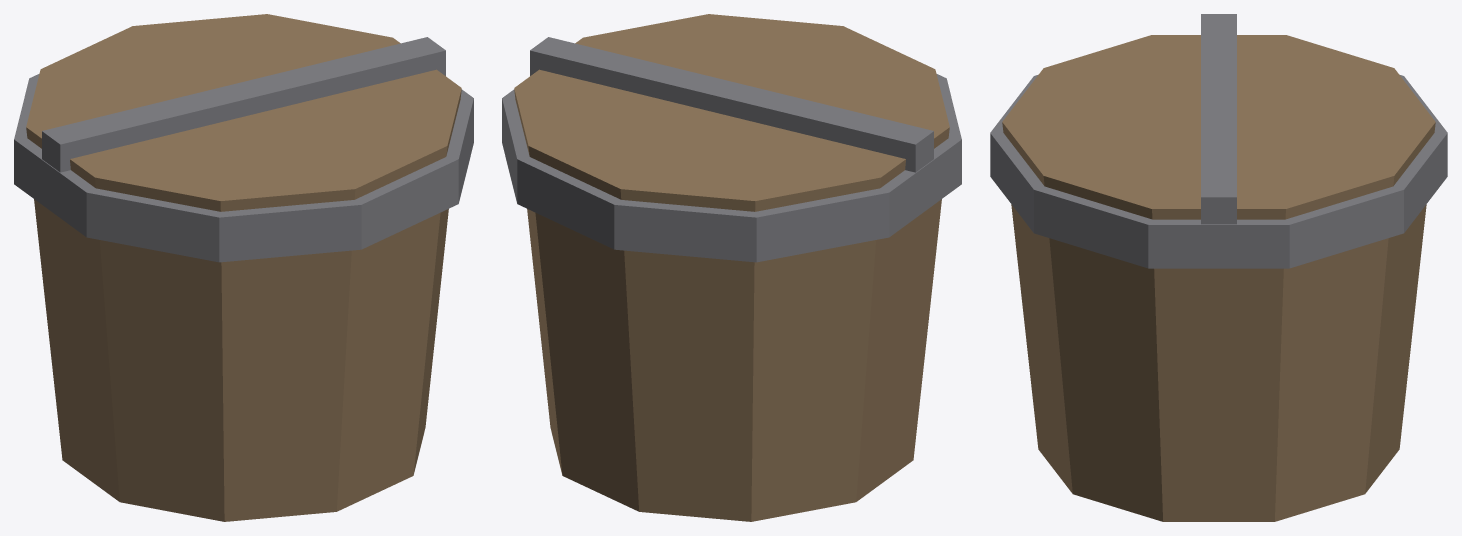
File: bucket.glb
The picture shows the model from 3 angles, left to right: view 1: azimuth 30°, elevation 25°; view 2: azimuth 150°, elevation 25°; view 3: azimuth 270°, elevation 25°; orthographic projection. The views are drawn at different scales.
Parts seen in each view (by area): view 1: bucket; view 2: bucket; view 3: bucket.
Part boxes in pixels (left/top/right/bottom): bucket: left=14, top=14, right=473, bottom=521; bucket: left=502, top=14, right=961, bottom=521; bucket: left=990, top=14, right=1447, bottom=521.
Bounding box in the file's own units: 0.3614 × 0.315 × 0.38.
